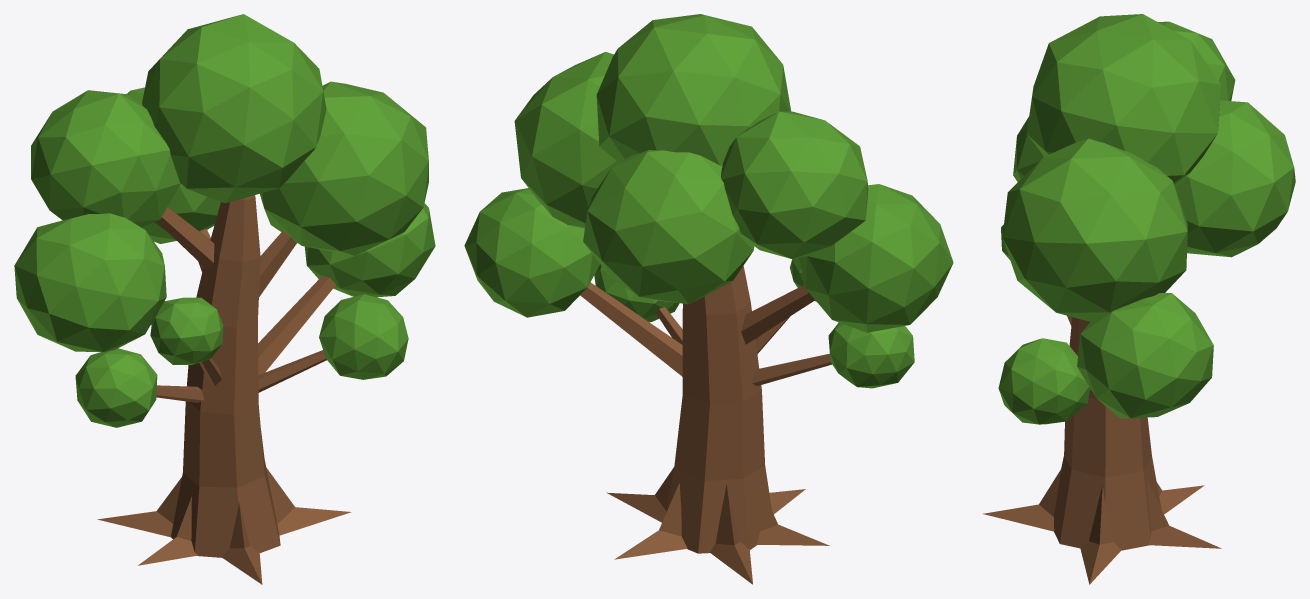
Rendered from tree.glb.
The picture shows the model from 3 angles, left to right: view 1: azimuth 30°, elevation 25°; view 2: azimuth 150°, elevation 25°; view 3: azimuth 270°, elevation 25°; orthographic projection. The views are drawn at different scales.
Parts seen in each view (by area): view 1: Canopy, Trunk; view 2: Canopy, Trunk; view 3: Canopy, Trunk.
Part boxes in pixels (bbox=[...]): Canopy: bbox=[14, 14, 435, 427]; Trunk: bbox=[97, 195, 351, 584]; Canopy: bbox=[464, 14, 953, 388]; Trunk: bbox=[580, 266, 831, 584]; Canopy: bbox=[998, 14, 1295, 424]; Trunk: bbox=[983, 315, 1221, 584].
Size of the model in its own units: 4.46 by 4.99 by 2.78.
